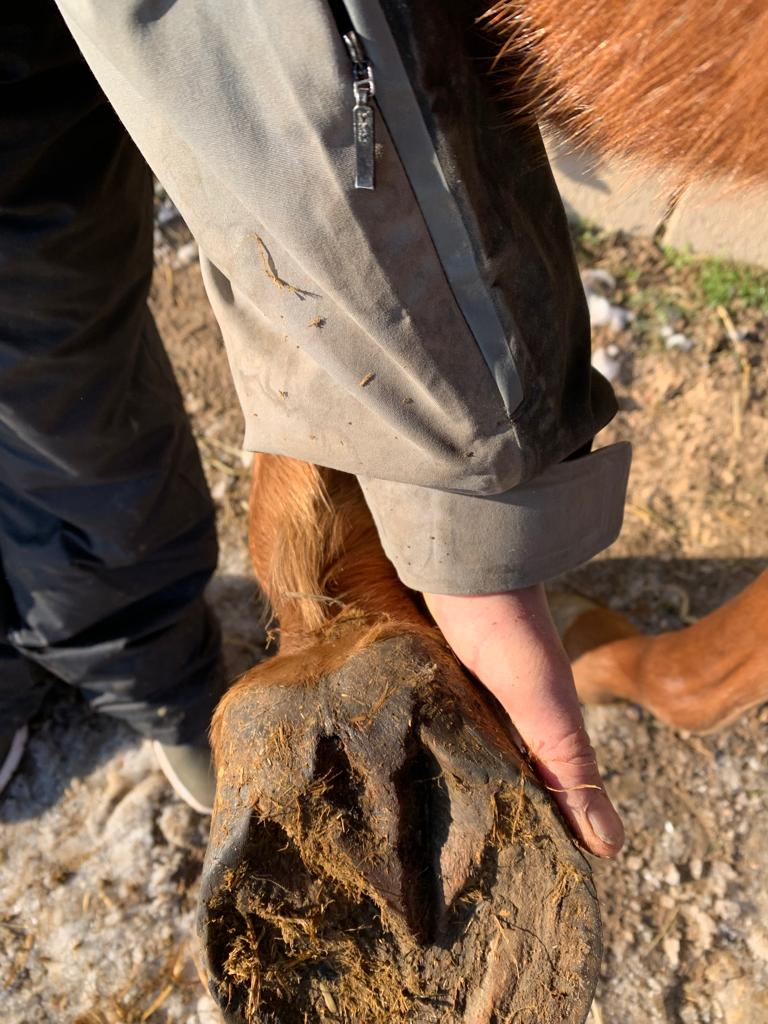horsesole: (196, 727, 600, 1024)
